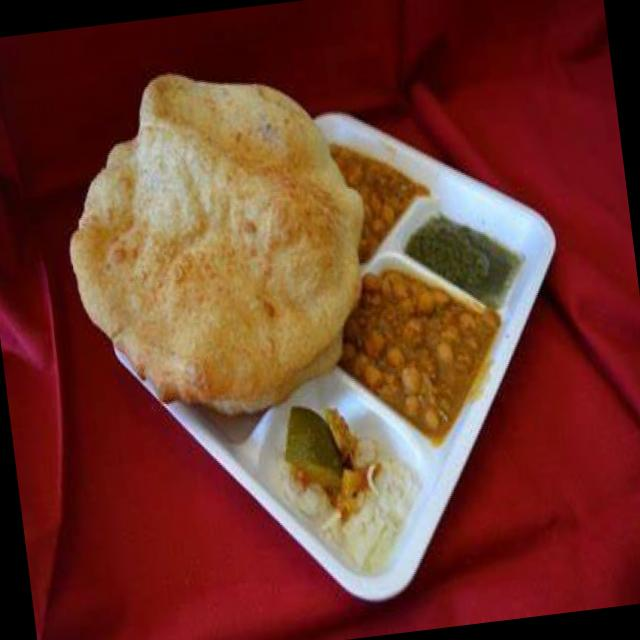Bhatura: (49, 49, 388, 436)
Chole: (336, 248, 495, 449)
